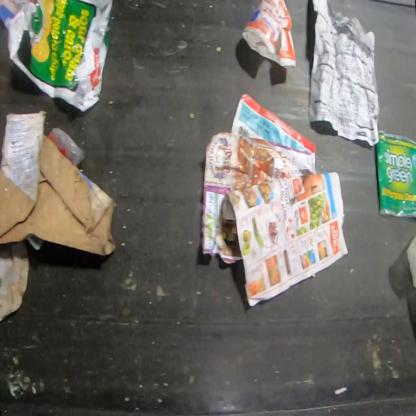cardboard: (0, 112, 116, 256)
rigid_plastic: (242, 0, 297, 68), (47, 127, 85, 167), (26, 234, 42, 252)
soft_plastic: (5, 0, 114, 115), (376, 129, 415, 219), (406, 234, 415, 291)
